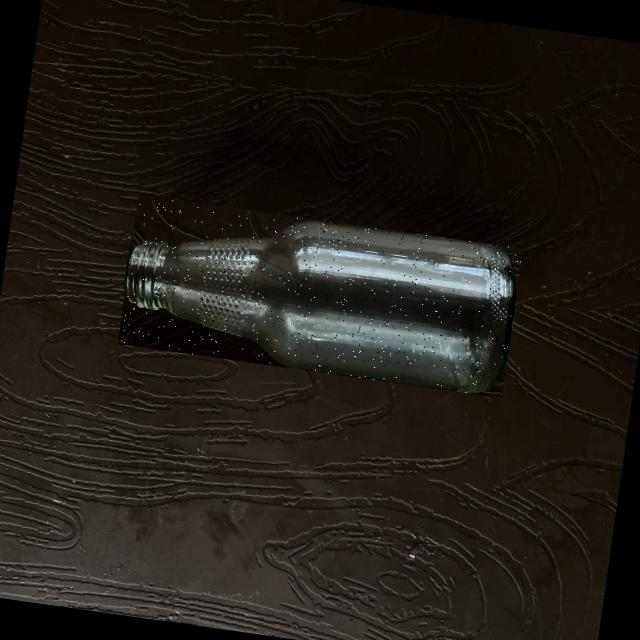Glass_Bottle: (127, 221, 515, 391)
